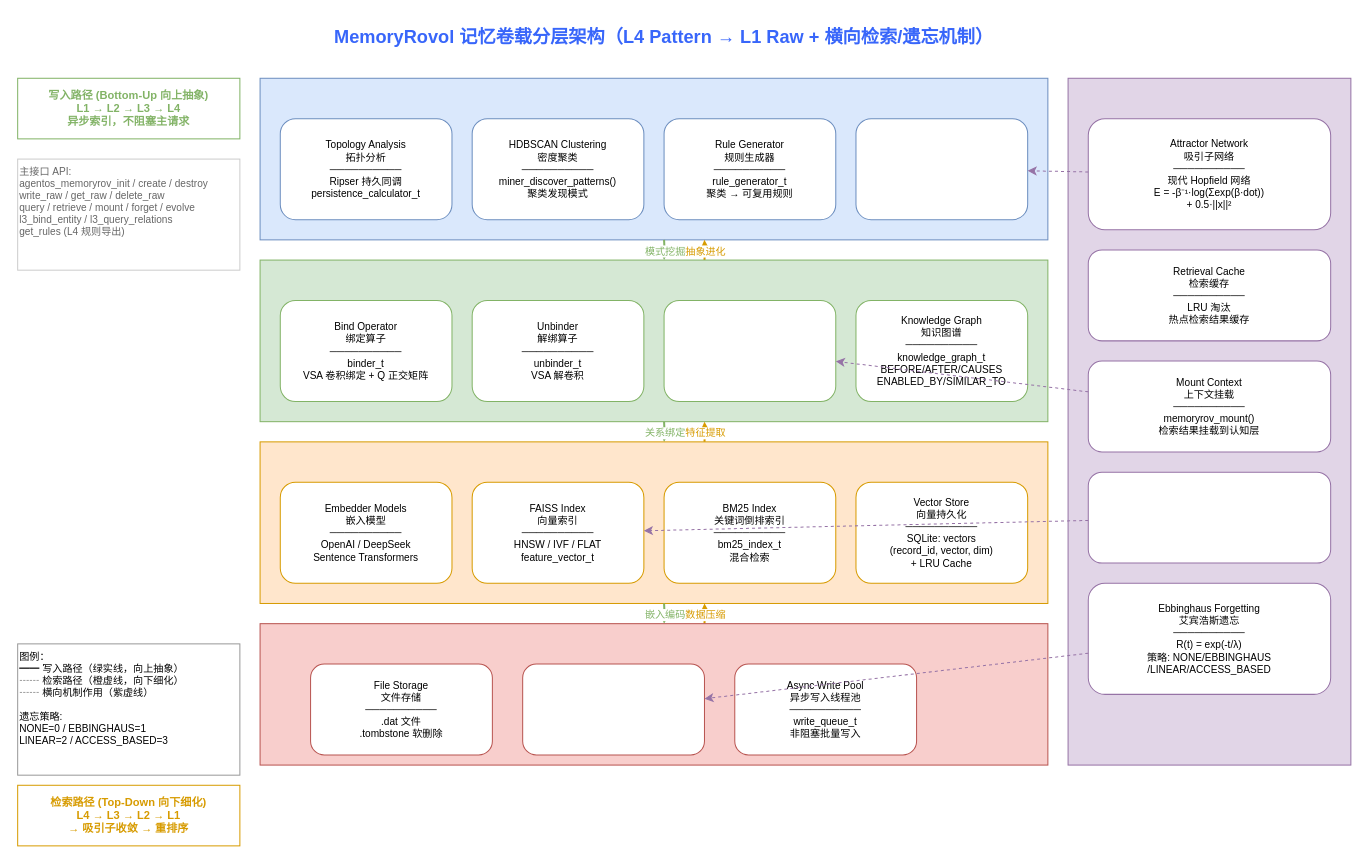
Some shapes in this 1369 by 864 pixel diagram are drawn without their labels. The shapes that lost their labels are listed below. From the top down, each one's box as (x1, y1, x2, y2) in pixels, then its label:
(259, 77, 1048, 240): L4 Pattern Layer 模式层 — 存储后端: 图数据库 (Neo4j / 内置图引擎)
(855, 118, 1028, 220): Pattern Matcher 模式匹配器 ────────── pattern_matcher_t 模式匹配检索
(259, 259, 1048, 422): L3 Structure Layer 结构层 — 存储后端: 文档数据库 (JSON/BSON) + SQLite KG
(663, 299, 836, 401): Relation Encoder 关系编码器 ────────── relation_encoder_t subj/pred/obj 角色
(1067, 77, 1351, 765): 横向机制层 Retrieval & Forgetting
(259, 441, 1048, 603): L2 Feature Layer 特征层 — 存储后端: 向量数据库 (FAISS 索引 + 倒排索引)
(1087, 471, 1331, 563): Reranker 重排序 ────────── 交叉编码器精排 + RRF 融合
(522, 663, 704, 755): Metadata SQLite 元数据索引 ────────── raw_metadata_db_t (record_id, source, tags)
(259, 623, 1048, 765): L1 Raw Layer 原始卷 — 存储后端: 文件系统 + SQLite 元数据
